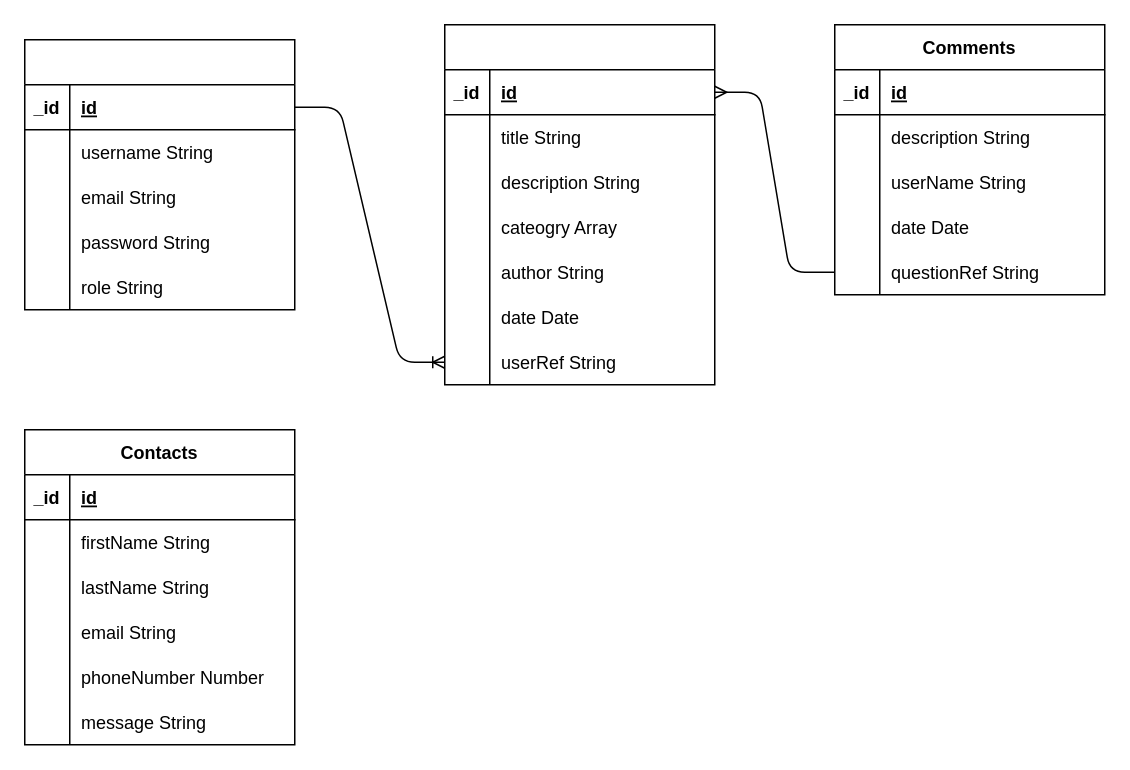
Image size: 1130x770. Some labels were removed from this diagram. Each missing label, with the box of its shape:
Questions: (443, 23, 715, 385)
Users: (23, 38, 295, 310)
